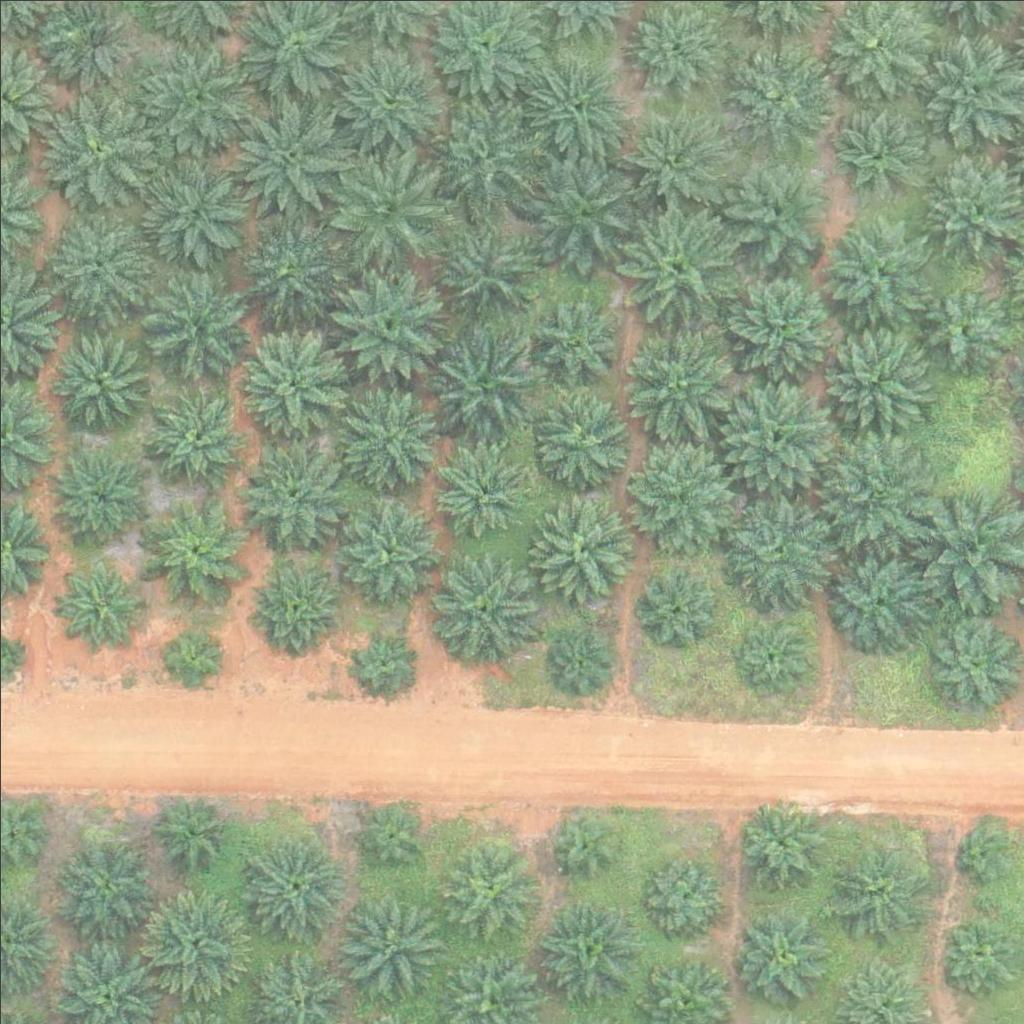Kelapa_Sawit: (809, 425, 934, 551), (715, 260, 840, 386), (614, 318, 739, 444), (615, 203, 740, 329), (519, 147, 644, 273), (423, 327, 548, 453), (424, 208, 549, 334), (424, 92, 549, 218), (323, 258, 448, 384), (325, 140, 450, 266), (228, 92, 353, 218), (325, 38, 450, 164), (227, 316, 352, 441), (37, 85, 162, 210), (130, 36, 255, 161), (815, 319, 928, 433), (723, 34, 836, 148), (817, 215, 930, 328), (824, 97, 937, 210), (723, 149, 836, 262), (623, 438, 736, 551), (721, 381, 833, 495), (616, 102, 728, 216), (137, 880, 249, 993), (726, 497, 838, 610), (55, 835, 155, 936), (242, 837, 342, 938), (339, 899, 439, 1000), (438, 838, 538, 939), (537, 896, 637, 997), (531, 500, 631, 601), (532, 385, 632, 486), (429, 559, 529, 660), (435, 438, 535, 539), (338, 502, 438, 603), (338, 390, 438, 491), (243, 445, 343, 546), (235, 218, 335, 319), (141, 498, 241, 599), (146, 383, 246, 484), (145, 269, 245, 370), (141, 165, 241, 266), (49, 446, 149, 547), (47, 330, 147, 431), (50, 214, 150, 315), (731, 795, 831, 895), (825, 845, 925, 945), (830, 547, 930, 647), (525, 290, 625, 390), (526, 59, 626, 159), (638, 851, 726, 939), (918, 284, 1006, 372), (56, 559, 144, 647), (734, 911, 821, 999), (933, 618, 1020, 706), (245, 562, 332, 650), (734, 613, 809, 689), (545, 804, 620, 880), (940, 919, 1015, 995), (637, 570, 712, 645), (153, 791, 228, 866), (349, 797, 424, 872), (548, 628, 611, 691), (951, 819, 1013, 882), (349, 630, 411, 693), (163, 629, 225, 692)
